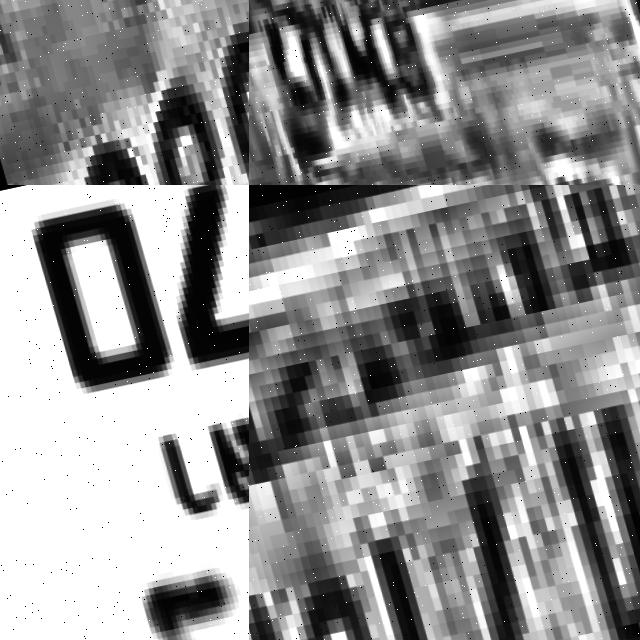license-plate: (249, 185, 640, 640), (0, 185, 249, 640), (249, 0, 640, 185), (0, 0, 249, 185)
